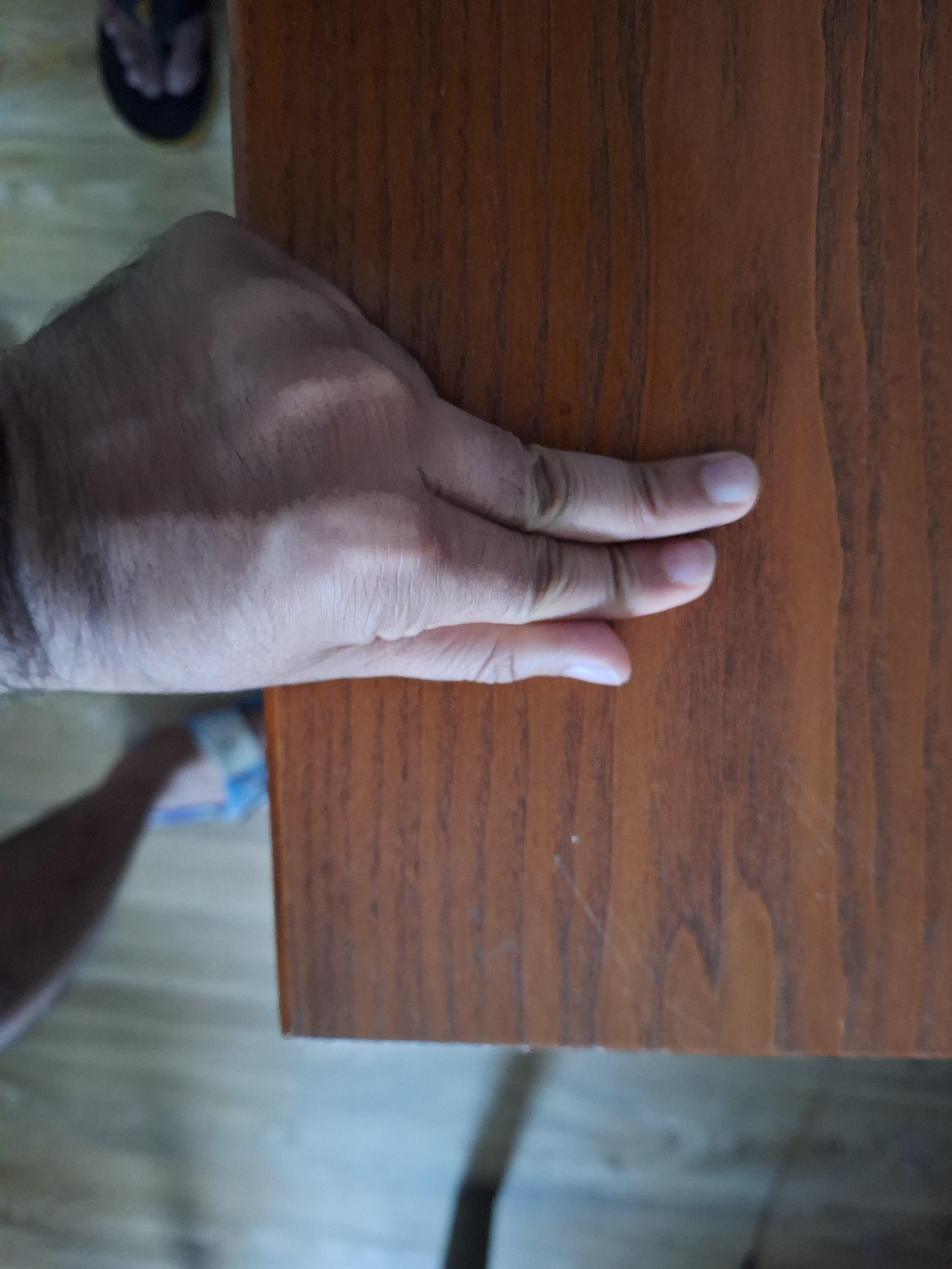Fingernail: (663, 539, 714, 587), (703, 456, 752, 505), (565, 665, 620, 686)
